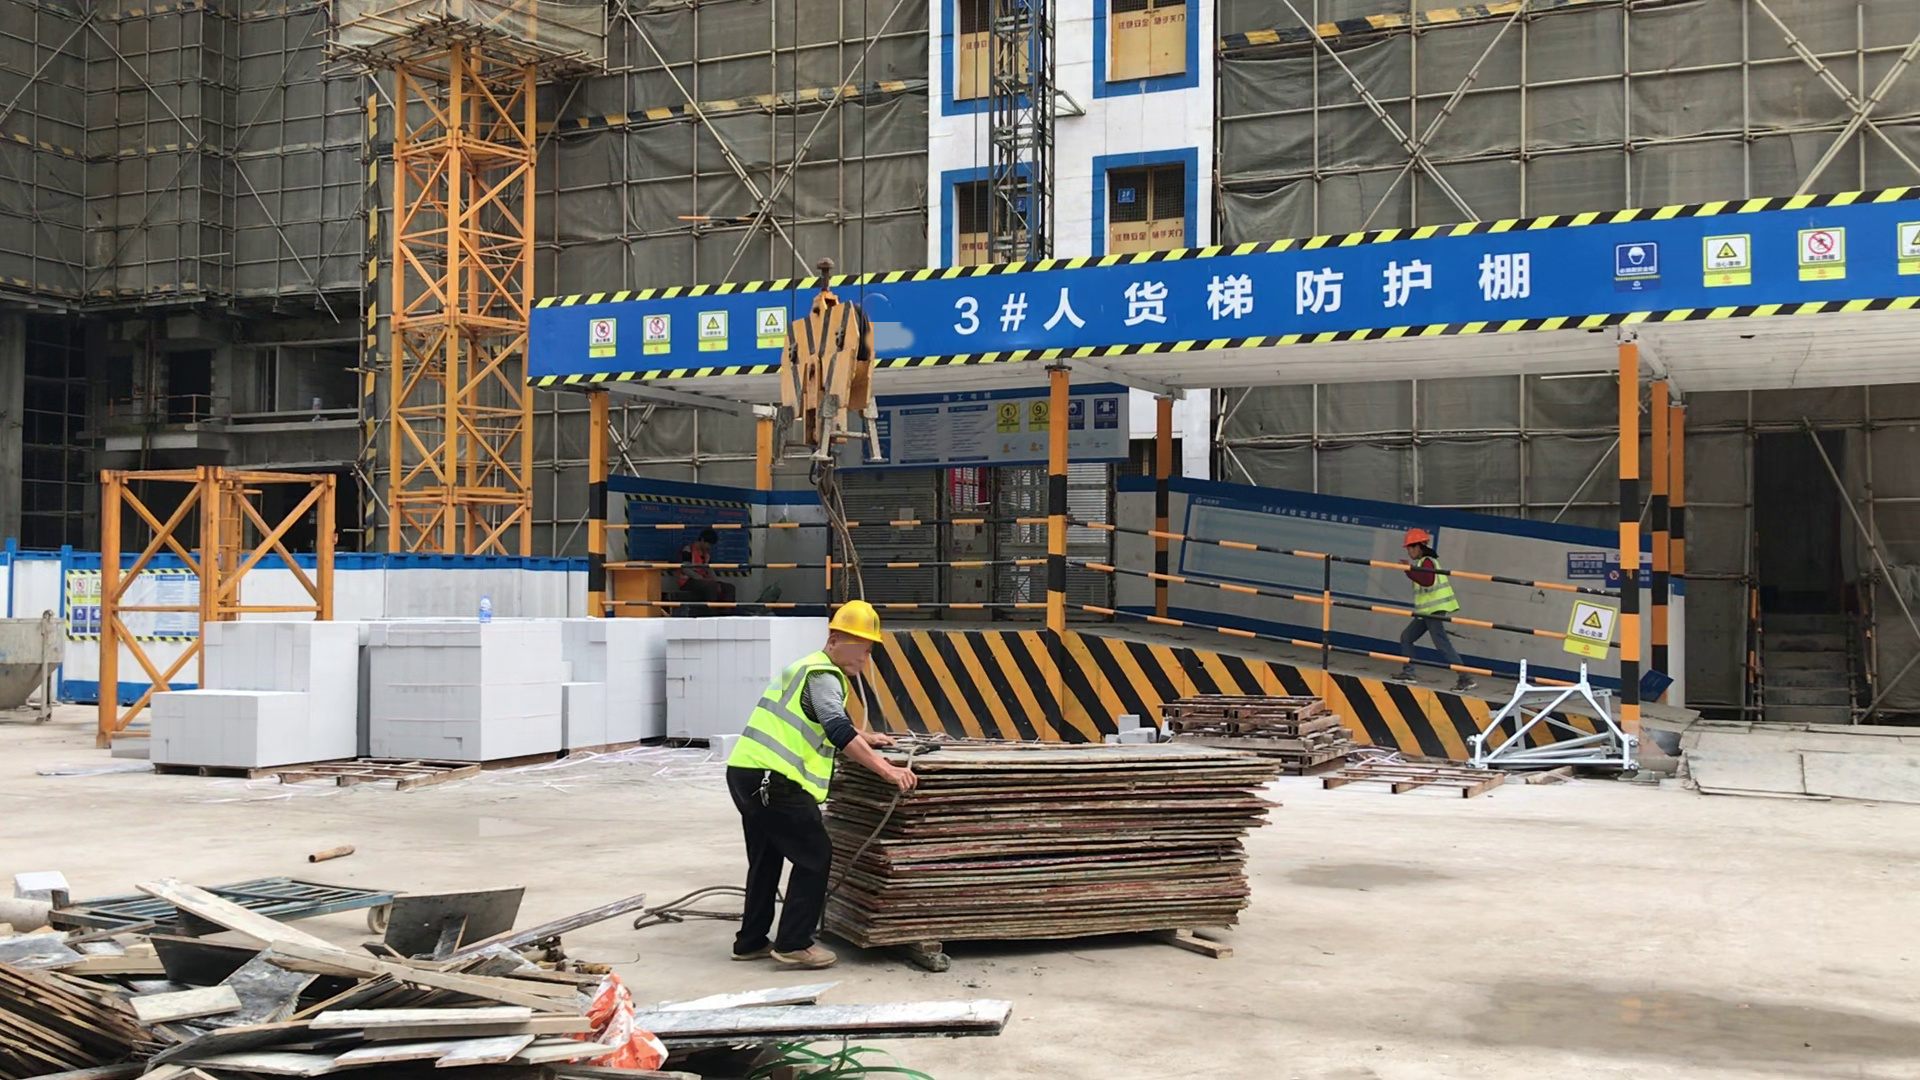board: (836, 738, 1285, 957)
brick: (151, 613, 829, 766)
helmet: (826, 597, 887, 648), (1400, 527, 1431, 546)
hook: (781, 284, 874, 484)
person: (728, 597, 919, 968), (1392, 527, 1481, 697)
slogan: (1600, 224, 1920, 281), (65, 568, 220, 638), (576, 307, 786, 356), (996, 399, 1121, 457), (1560, 546, 1661, 589), (1561, 596, 1614, 665)
vest: (732, 650, 846, 803), (1412, 556, 1460, 616)
